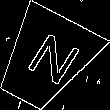N_SW: (12, 28, 78, 92)
